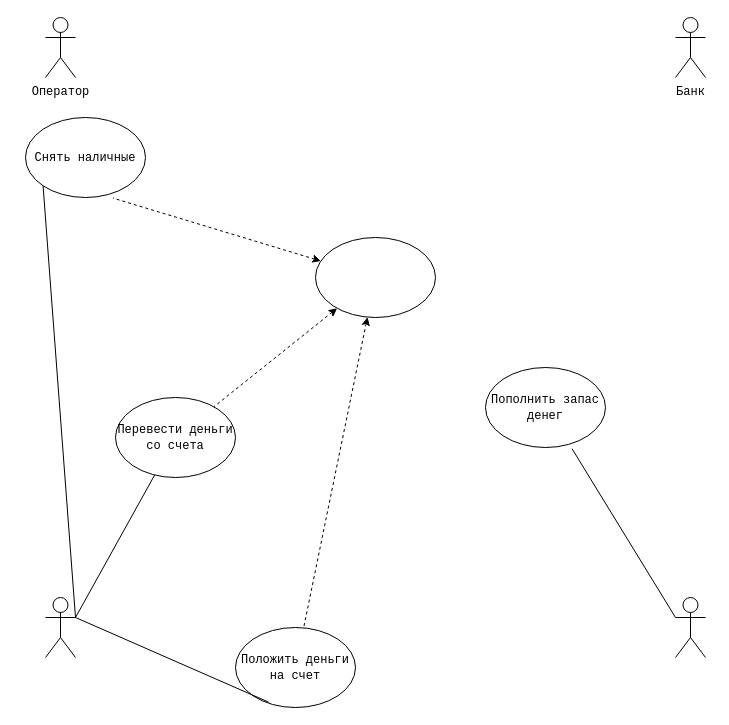
The diagram is 729 pixels wide and 725 high, and some of its shapes have lost their labels. Each missing label, with the centre of its shape:
Кассир: point 690,627
Клиент банка: point 60,627
Подтвердить пользователя: point 375,277
